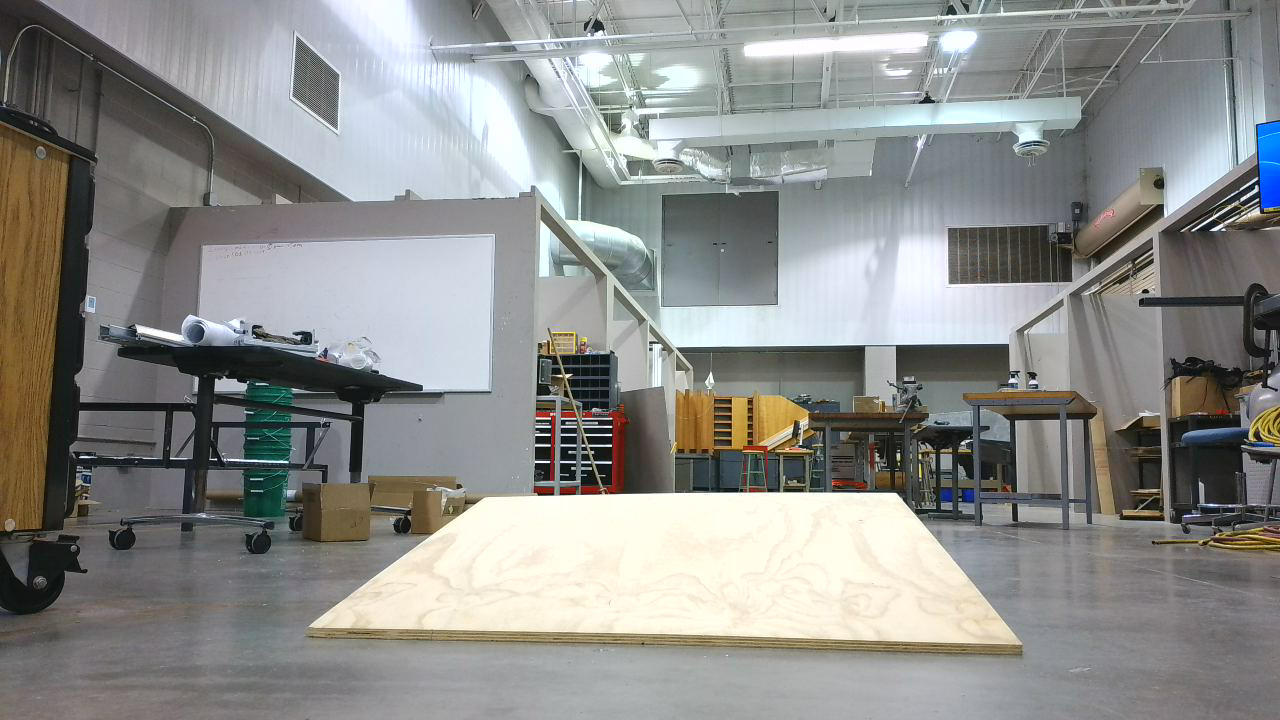ramp: (303, 491, 1032, 667)
